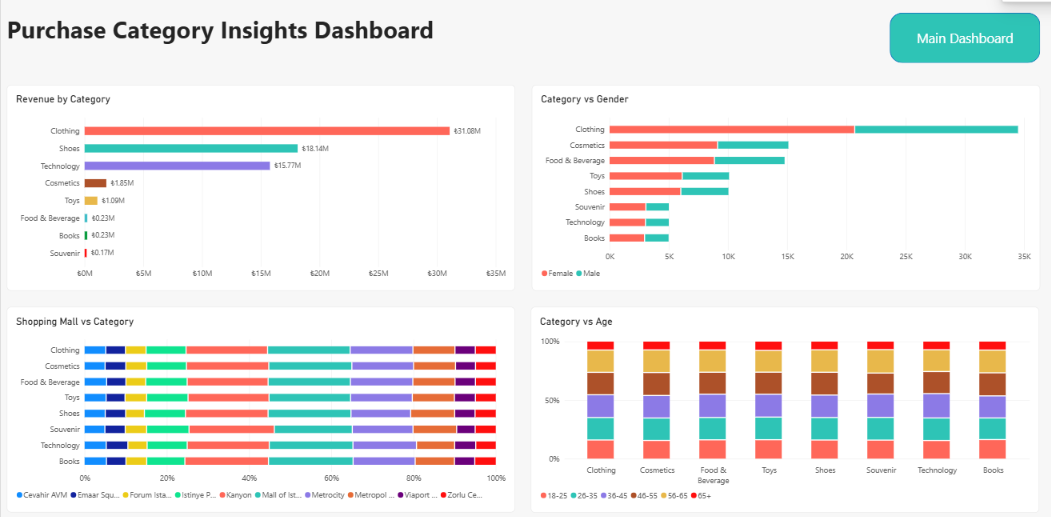

Layout of this report page (visuals, bound fields, positions):
{"tool":"powerbi","page":{"name":"Category","canvas":[1920,1080],"ordinal":1},"visuals":[{"type":"barChart","title":" Revenue by Category","fields":{"Y":["rawdata.Total Revenue"],"Category":["rawdata.Category"]},"box":[10.3,181.1,920.1,372.6],"z":0},{"type":"barChart","title":" Category vs  Gender","fields":{"Category":["rawdata.Category"],"Series":["rawdata.gender"],"Y":["rawdata.Total Orders"]},"box":[961.2,181.1,920.1,372.6],"z":1000},{"type":"hundredPercentStackedColumnChart","title":"Category vs Age","fields":{"Category":["rawdata.Category"],"Series":["rawdata.Age Category"],"Y":["rawdata.Total Orders"]},"box":[959.2,582.5,920.1,372.6],"z":2000},{"type":"hundredPercentStackedBarChart","title":"Shopping Mall vs Category","fields":{"Category":["rawdata.Category"],"Series":["rawdata.shopping mall"],"Y":["rawdata.Total Orders"]},"box":[10.3,582.5,920.1,372],"z":3000},{"type":"textbox","box":[10.3,51.5,920.1,78.2],"z":4000},{"type":"shape","box":[1609.6,51.5,272.3,90.8],"z":5000}]}

Visuals, with their boxes on the page's 1920x1080 design canvas (x1, y1, x2, y2). These are canvas units, not pixel positions in the 1051x517 screenshot, which may show the page scaled, cropped or inside an application window:
" Revenue by Category" barChart: (left=10, top=181, right=930, bottom=554)
" Category vs  Gender" barChart: (left=961, top=181, right=1881, bottom=554)
"Category vs Age" hundredPercentStackedColumnChart: (left=959, top=582, right=1879, bottom=955)
"Shopping Mall vs Category" hundredPercentStackedBarChart: (left=10, top=582, right=930, bottom=954)
textbox: (left=10, top=52, right=930, bottom=130)
shape: (left=1610, top=52, right=1882, bottom=142)
